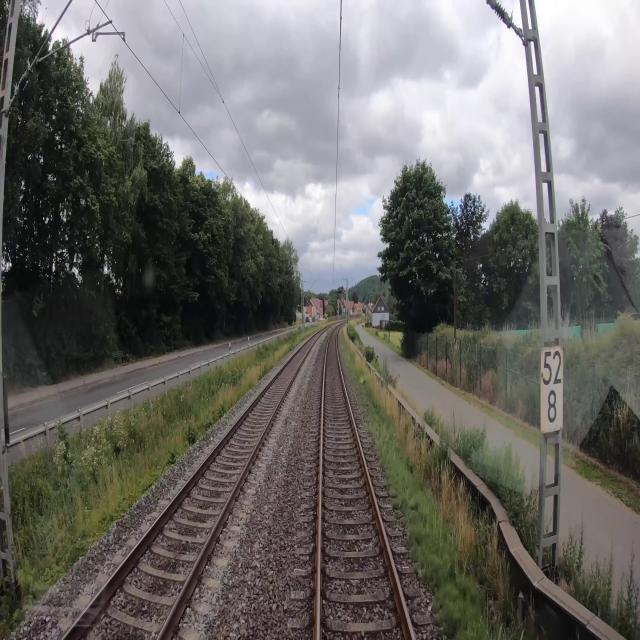Plant: (342, 343, 484, 639)
